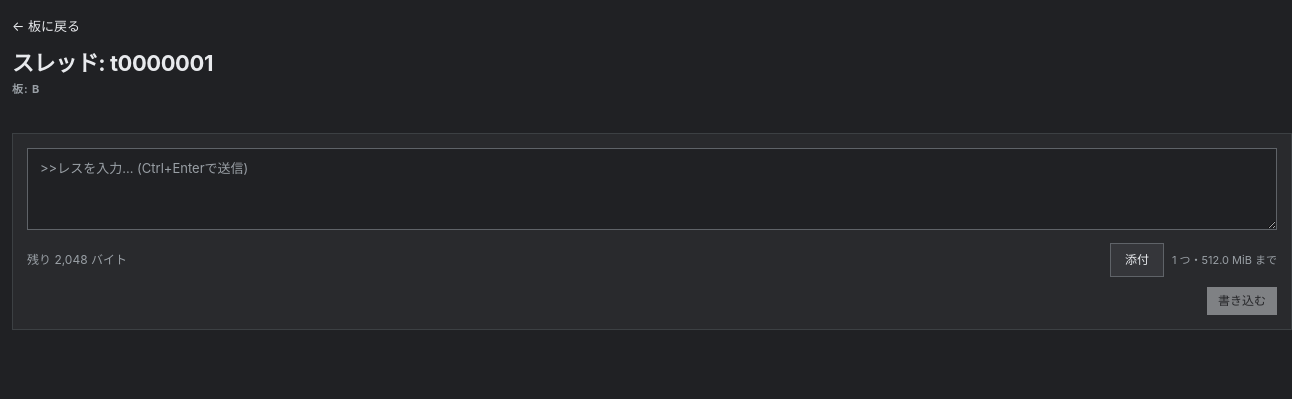
Test: ThreadView: 上限と寿命 › 送信が ThreadClosedError で断られたら、理由を出して入力を残す
Type "本文" into the text box with placeholder ">>レスを入力... (Ctrl+Enterで送信)".
click(652, 189); type("本文")  # box [27,148,1277,230]
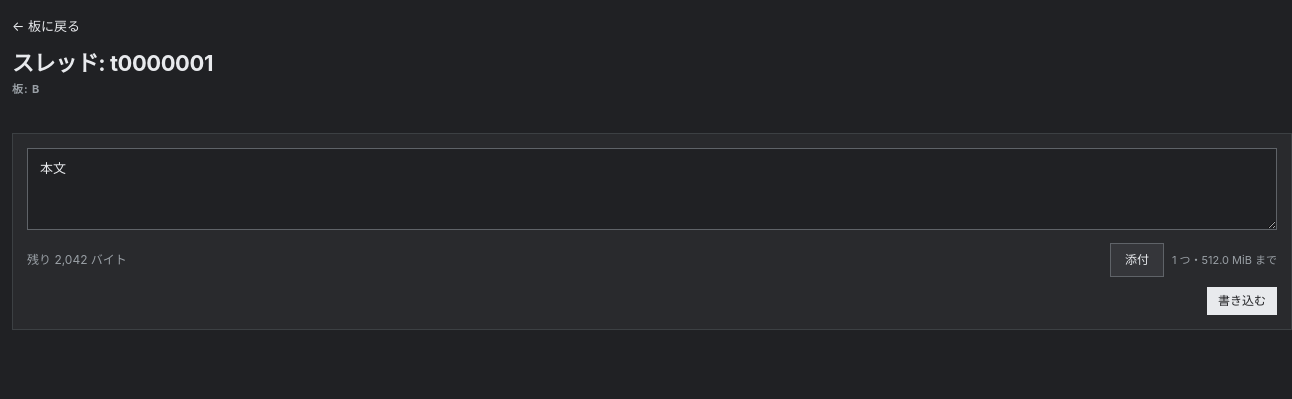
Click the button "書き込む".
click(1242, 301)  # box [1207,287,1277,315]
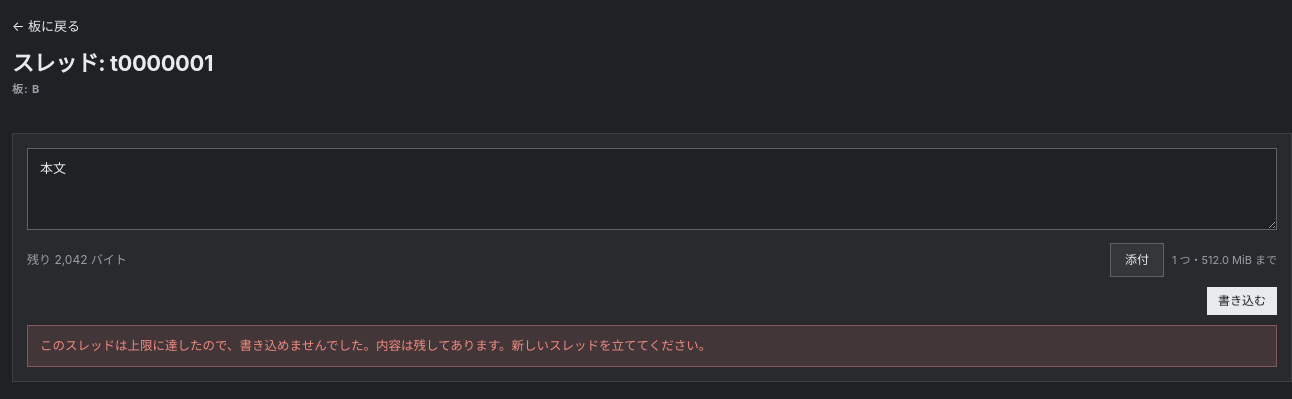
Now the message "このスレッドは上限に達したので、書き込めませんでした。内容は残してあります。新しいスレッドを立ててください。" is shown, box [27,325,1277,367]
Now the message shows "上限に達した", box [40,338,711,353]
